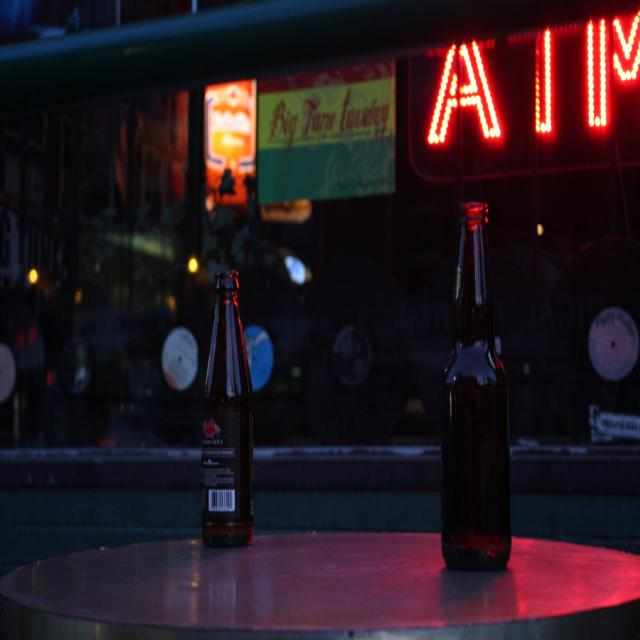Bottle: (419, 191, 528, 572), (192, 225, 265, 565)
Table: (6, 481, 639, 640)
